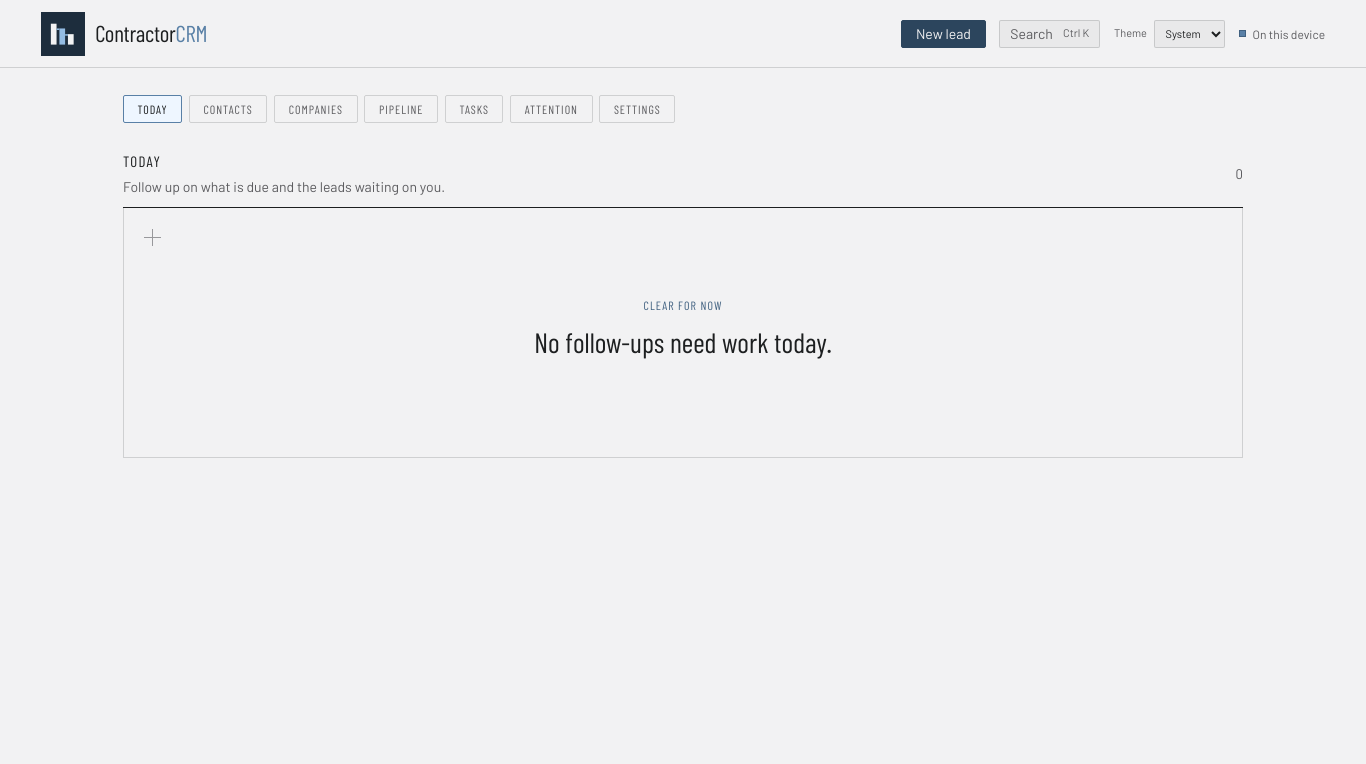
hand-off panel › shows the linked quote row with tool, id, label, and link time
Click the button "Pipeline": [401, 109] box [364,95,438,123]
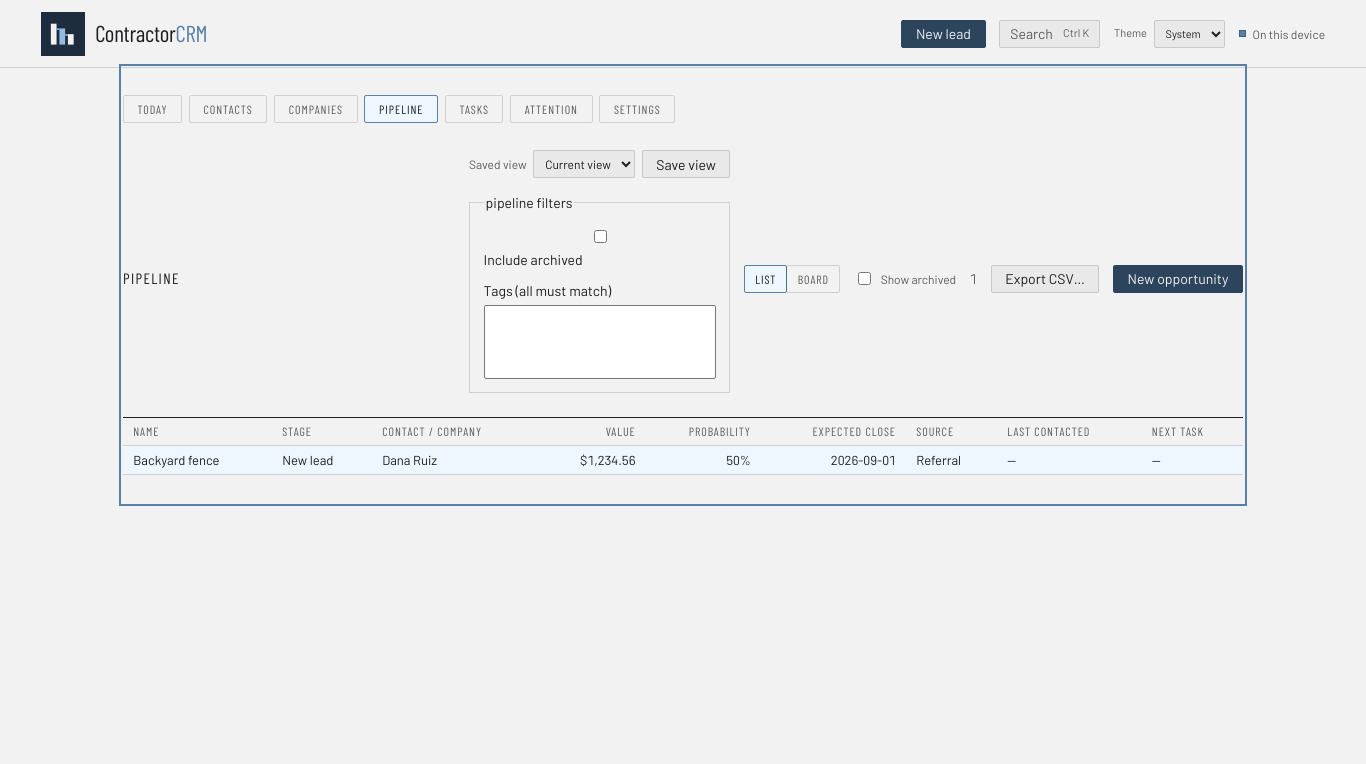
Click the text "Backyard fence": [176, 460] box [133,452,220,468]
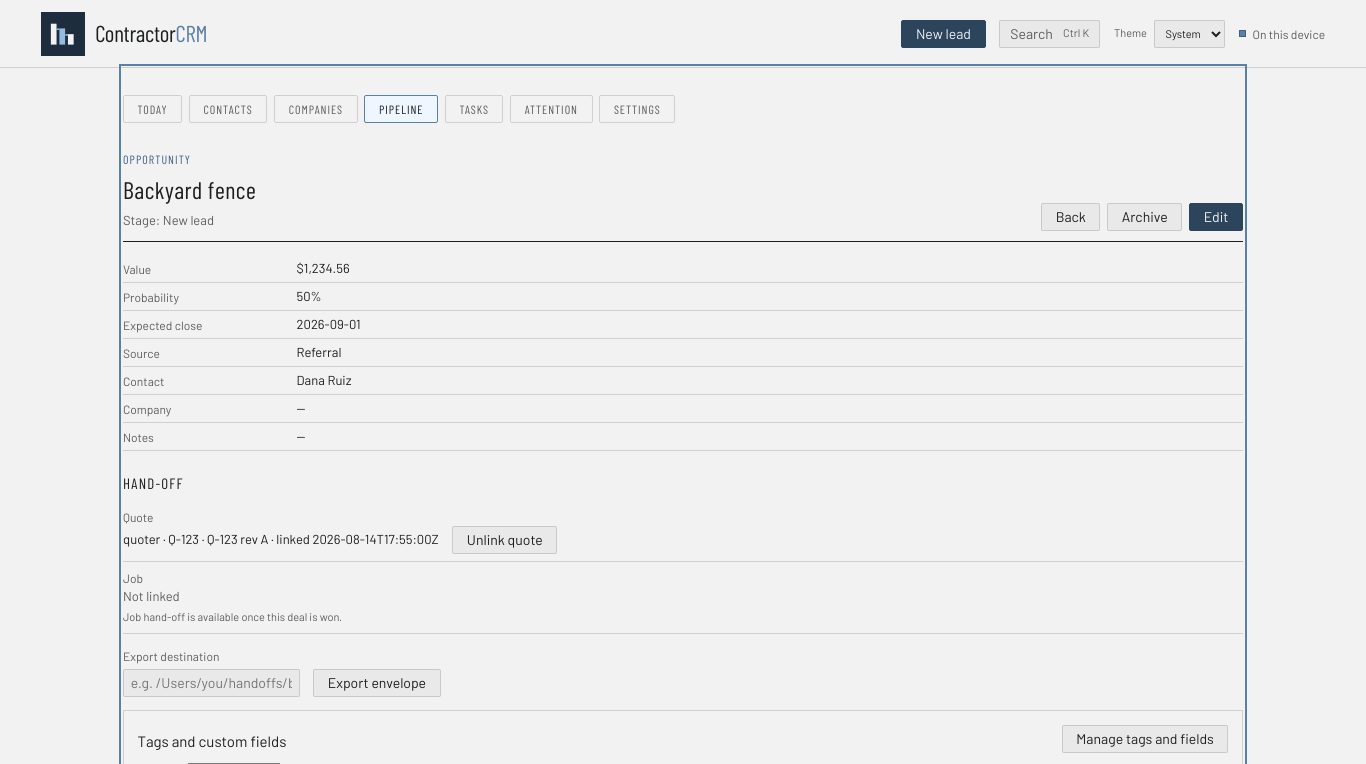
Expected: the heading "Backyard fence" is shown, [123,172,256,208]
Expected: the text "quoter · Q-123 · Q-123 rev A · linked 2026-08-14T17:55:00Z" is shown, [123,530,439,550]
Expected: the button "Unlink quote" is shown, [452,526,557,554]
